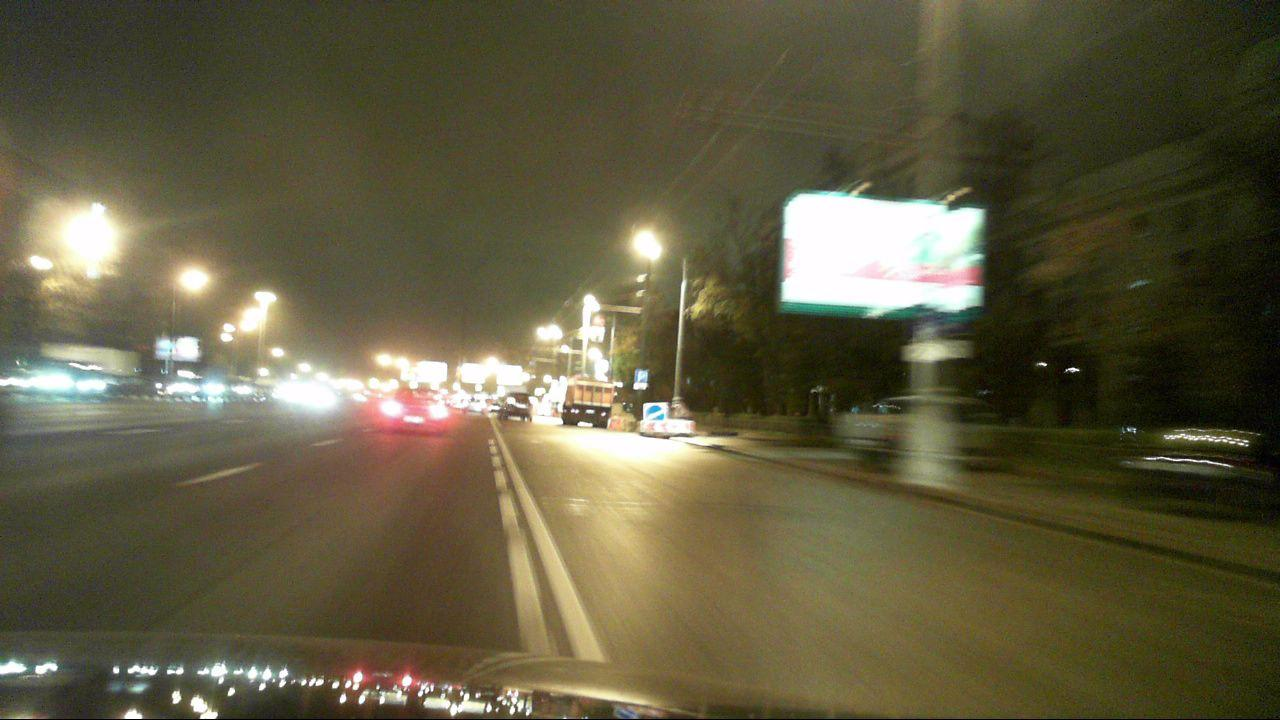4_2_2: (642, 403, 666, 426)
6_4: (635, 369, 649, 386)
